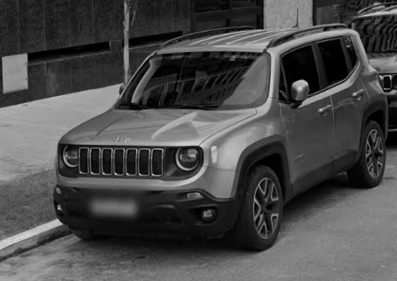car: (51, 26, 390, 245)
